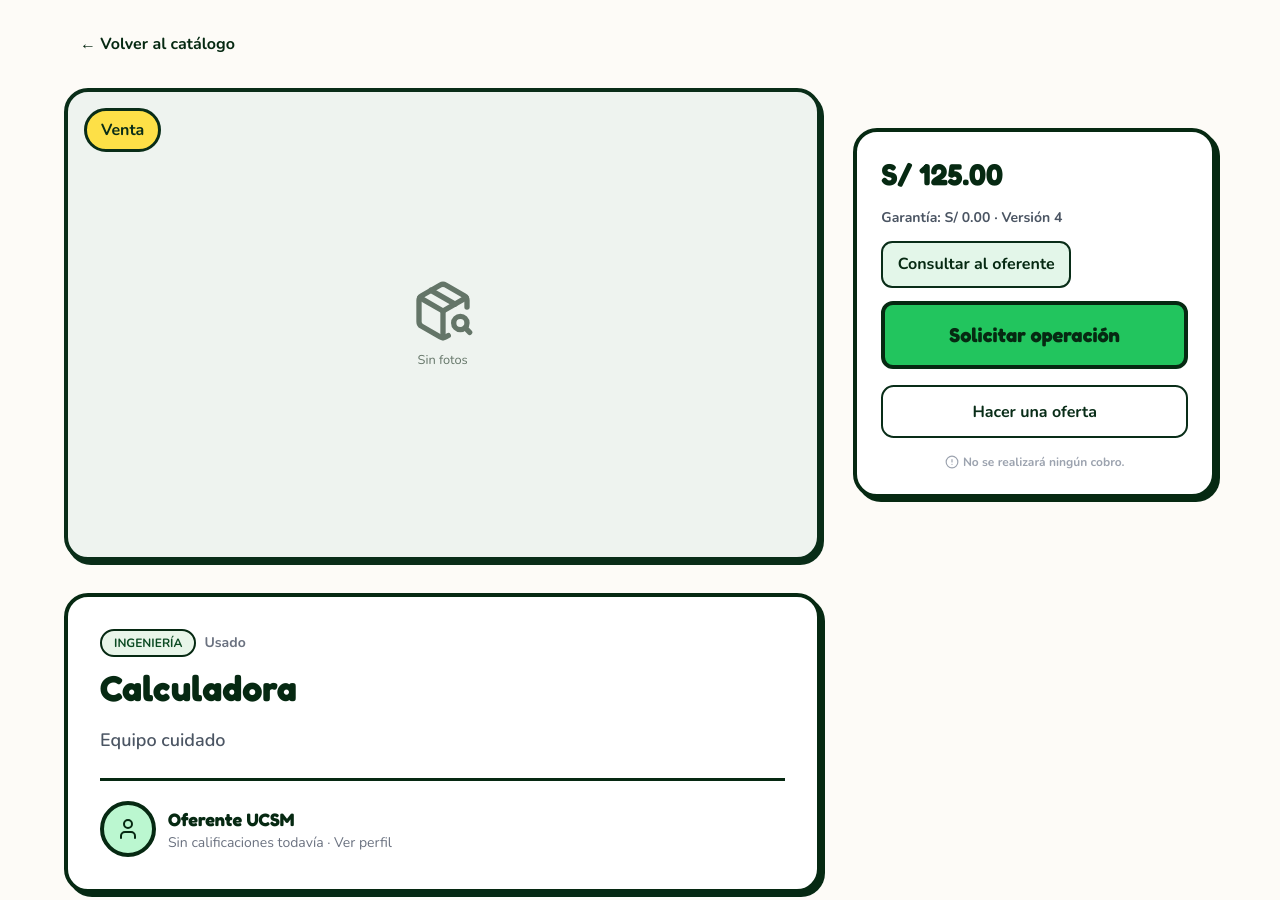
it: rejects invalid proposed amount 1.001 before sending
Check: the heading "Calculadora" is shown, box [100,666,297,709]
Click the button "Hacer una oferta" at (1035, 412), box [881,385,1188,438]
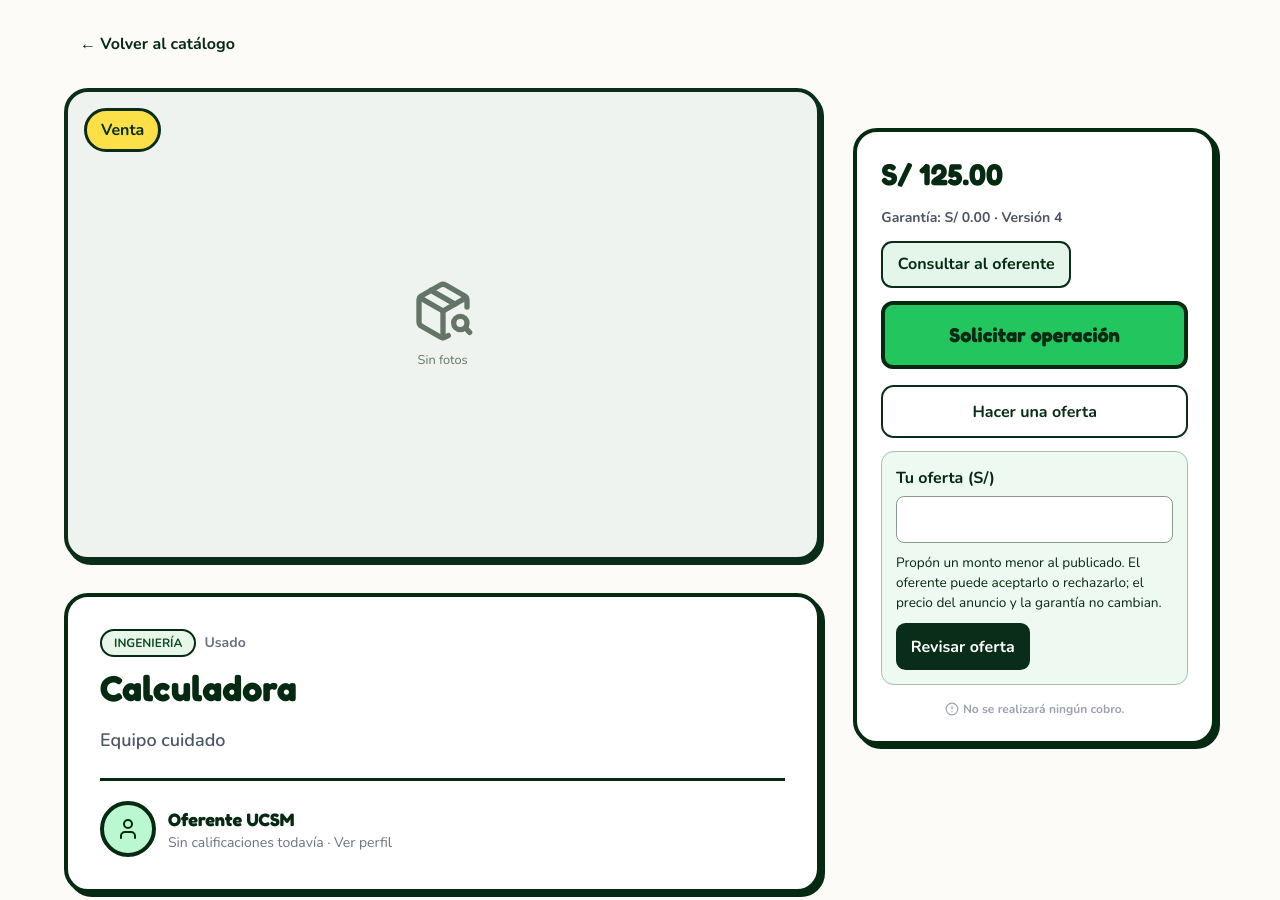
Type "1.001" into the number field labelled "Tu oferta (S/)" at (1035, 520), box [896,496,1173,543]
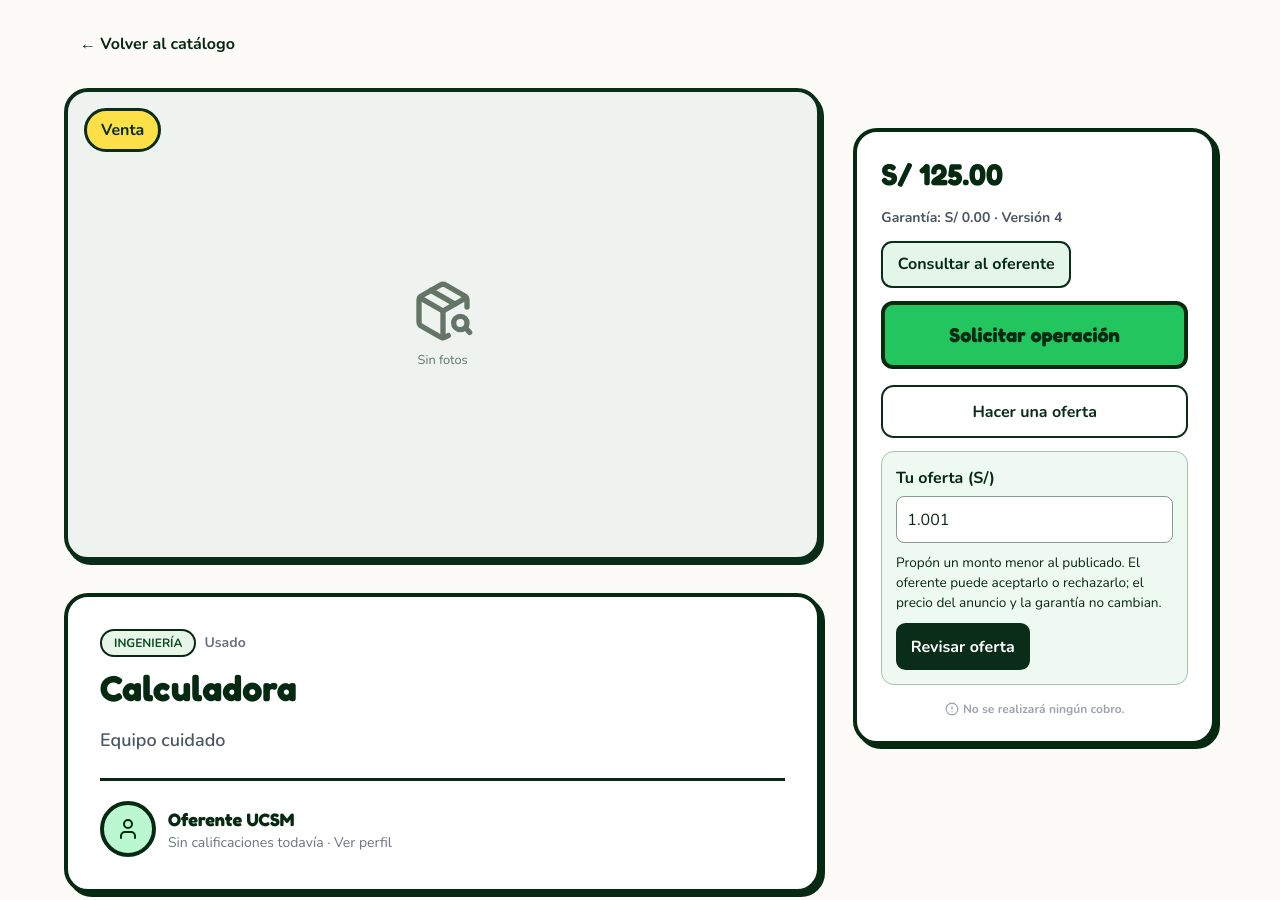
Click the button "Revisar oferta" at (963, 647), box [896,623,1030,670]
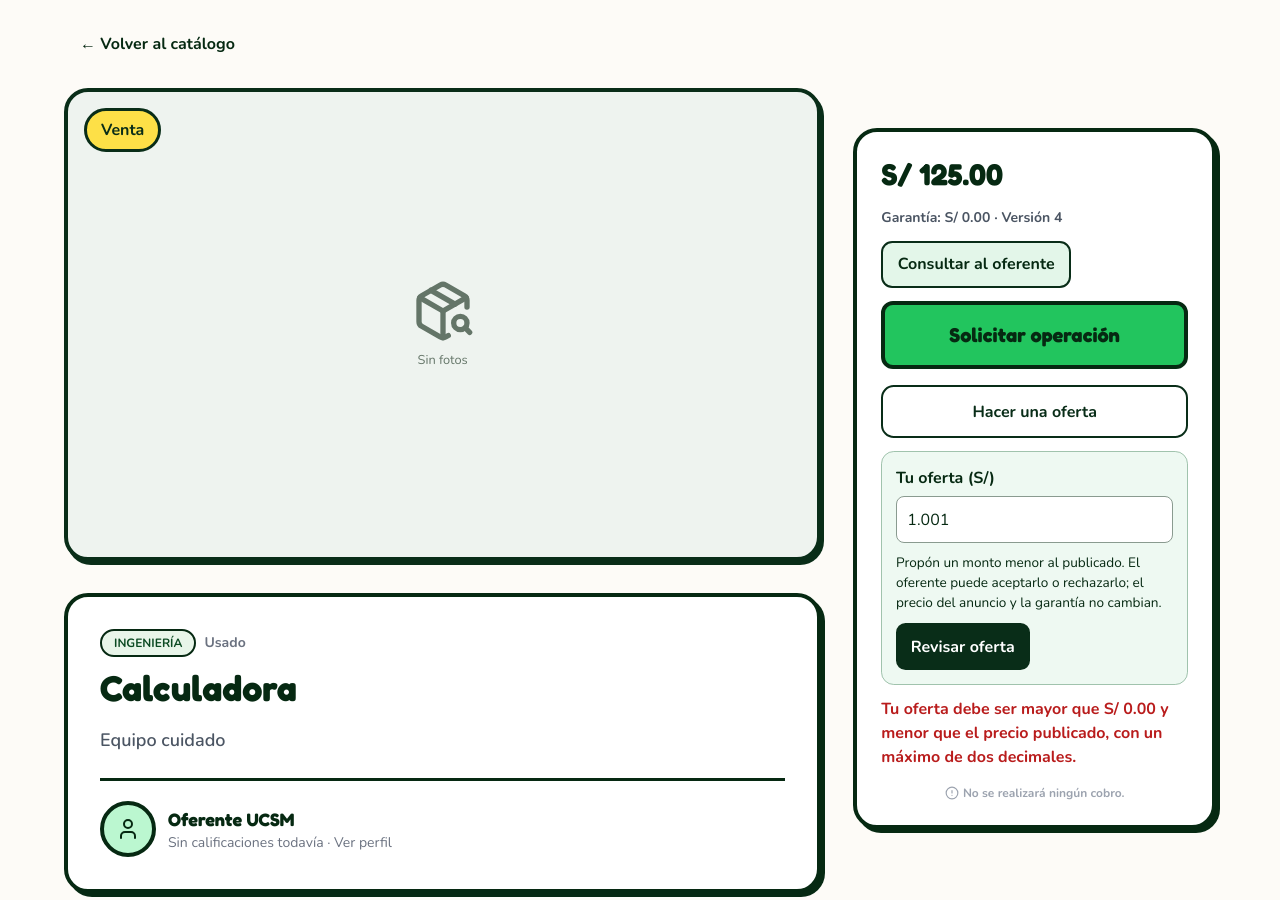
Check: the message shows "menor que el precio publicado", box [881,698,1169,768]
